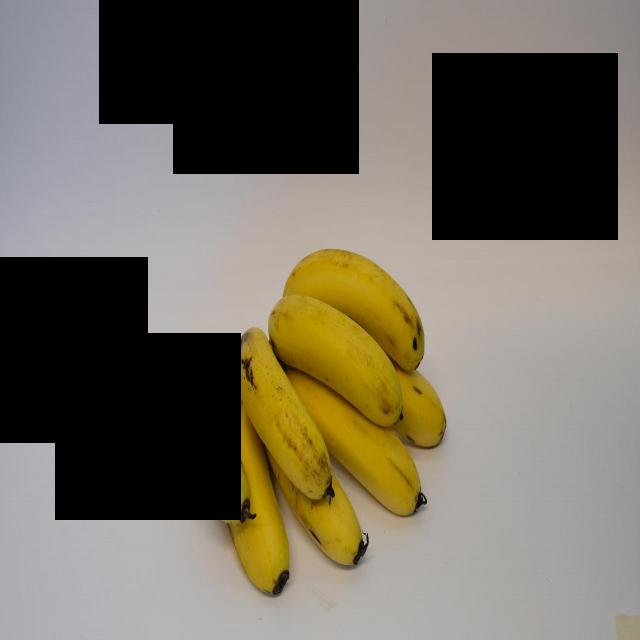banana: (268, 284, 408, 430), (293, 386, 426, 523), (296, 240, 431, 373), (235, 328, 334, 496), (226, 404, 292, 592), (184, 342, 248, 522)
